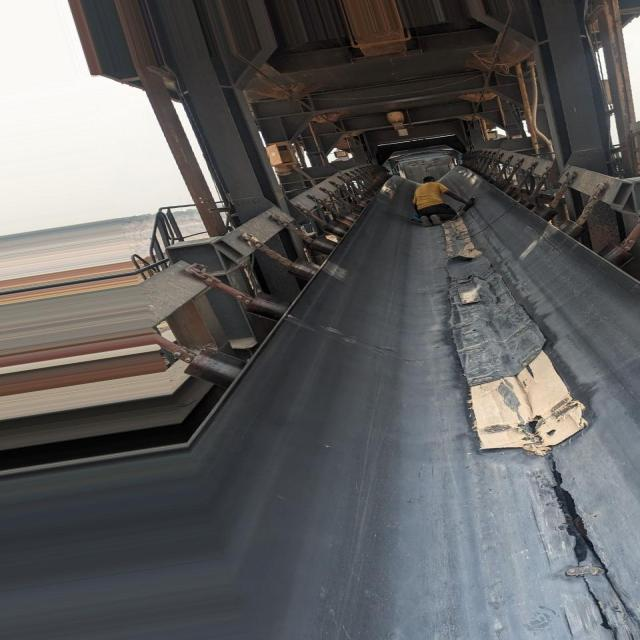Human: (413, 176, 475, 227)
Roller: (183, 201, 370, 389), (496, 178, 637, 268)
Tear: (550, 470, 595, 562)
patch work: (446, 253, 588, 449)
